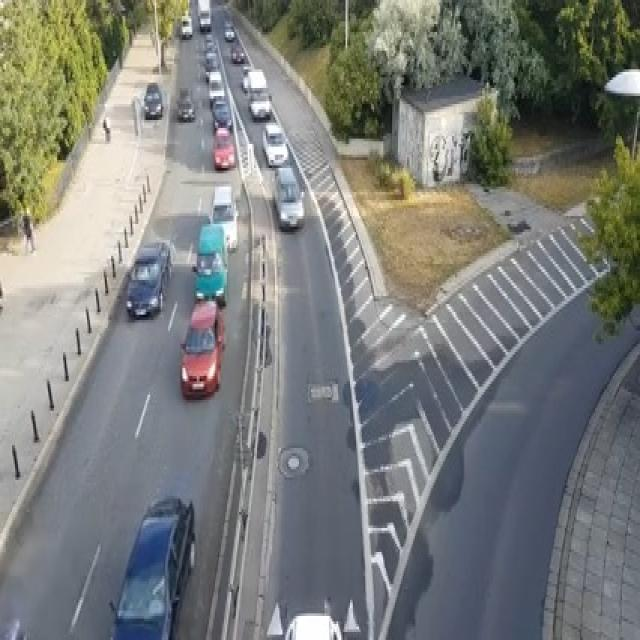car: (108, 493, 195, 638), (179, 299, 225, 397), (191, 221, 228, 304), (125, 256, 162, 317), (272, 166, 305, 230), (210, 184, 238, 251), (282, 611, 342, 637), (262, 123, 288, 165), (212, 125, 234, 168), (248, 91, 272, 120), (143, 83, 162, 117), (207, 69, 224, 107), (176, 85, 194, 120), (212, 98, 231, 130), (246, 67, 266, 93), (196, 0, 210, 29), (180, 13, 192, 38), (240, 64, 251, 91), (230, 43, 245, 61), (224, 19, 234, 40), (203, 32, 213, 51)
